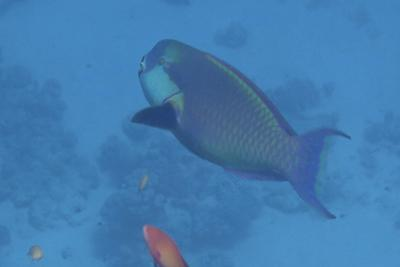Scaridae -Parrotfishes-: (127, 31, 355, 222)
